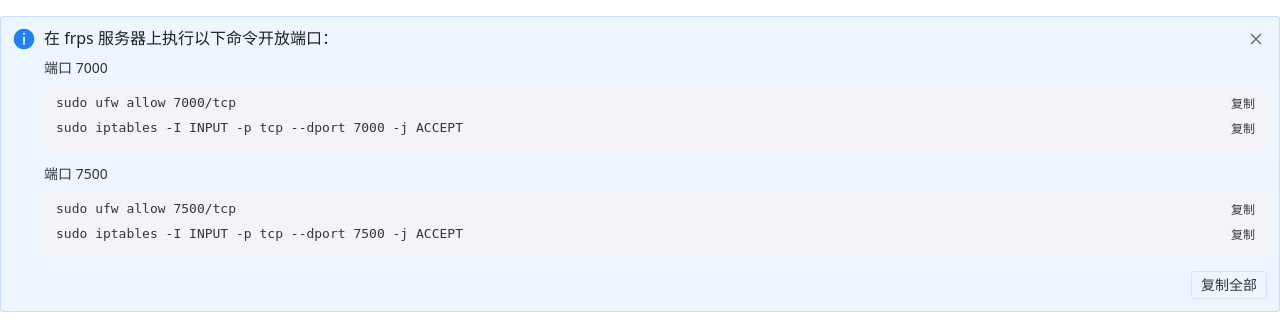
Test: FirewallHint.vue — copyAll 复制全部（A） › writeText 成功 → message.success + 按钮文案"已复制全部 ✓"
The width and height of the screenshot is (1280, 329).
Click the button "复制全部" at x=1229, y=285, box [1191,271,1267,299]
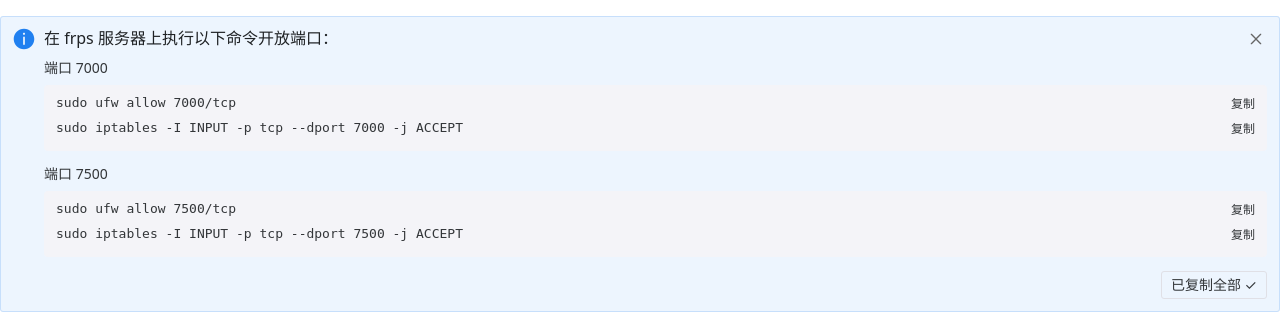
expect the text "已复制全部 ✓" is shown: met, box [1171,278,1257,292]
